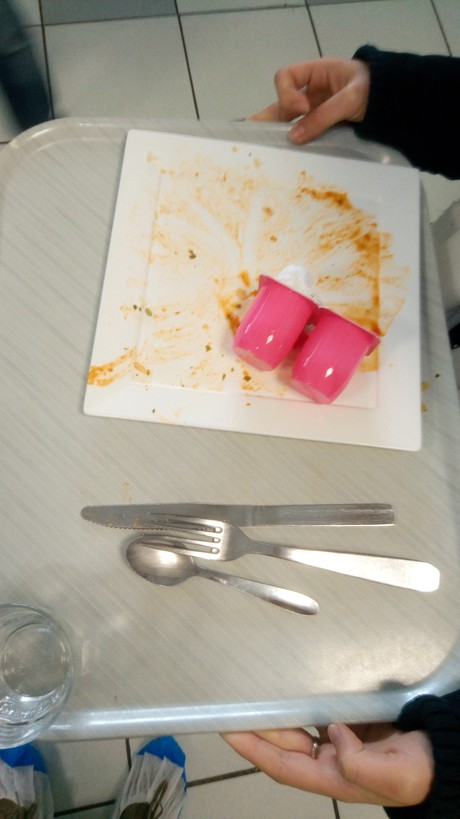cup: (1, 606, 115, 738)
cutlery: (54, 496, 457, 625)
trash: (240, 275, 379, 406)
